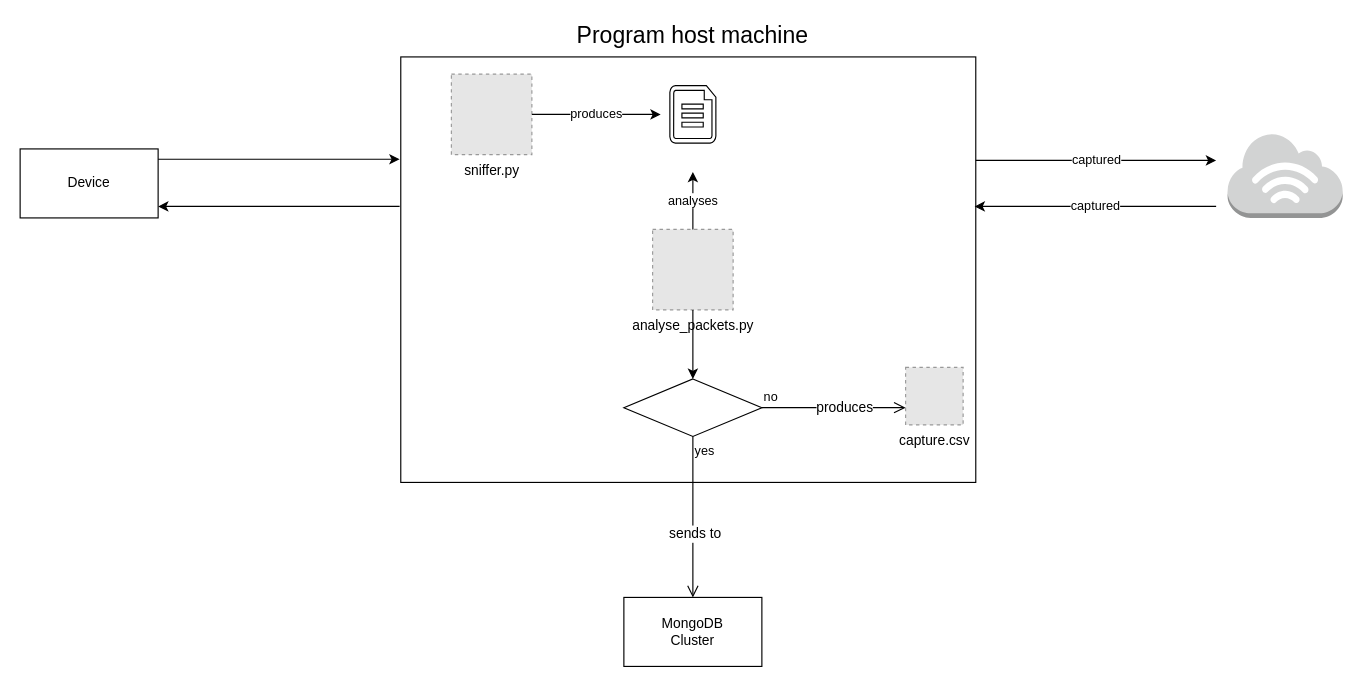
The diagram is 1363 pixels wide and 687 high, and some of its shapes have lost their labels. Grey dashed boxes stand in for pictures. Here are the shapes that lost their labels. From the top down, the box of each, then its label:
(669, 85, 716, 143): capture.pcap
(1226, 132, 1343, 218): Network
(623, 378, 762, 436): export=mongo
